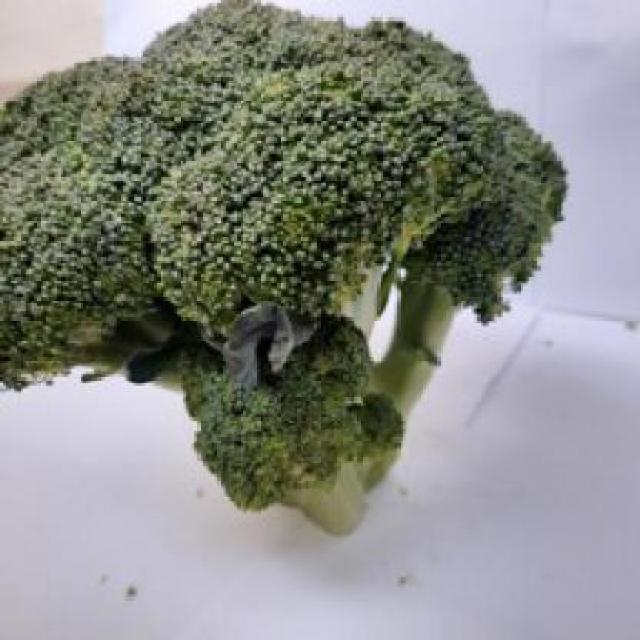broccoli: (0, 2, 560, 538)
